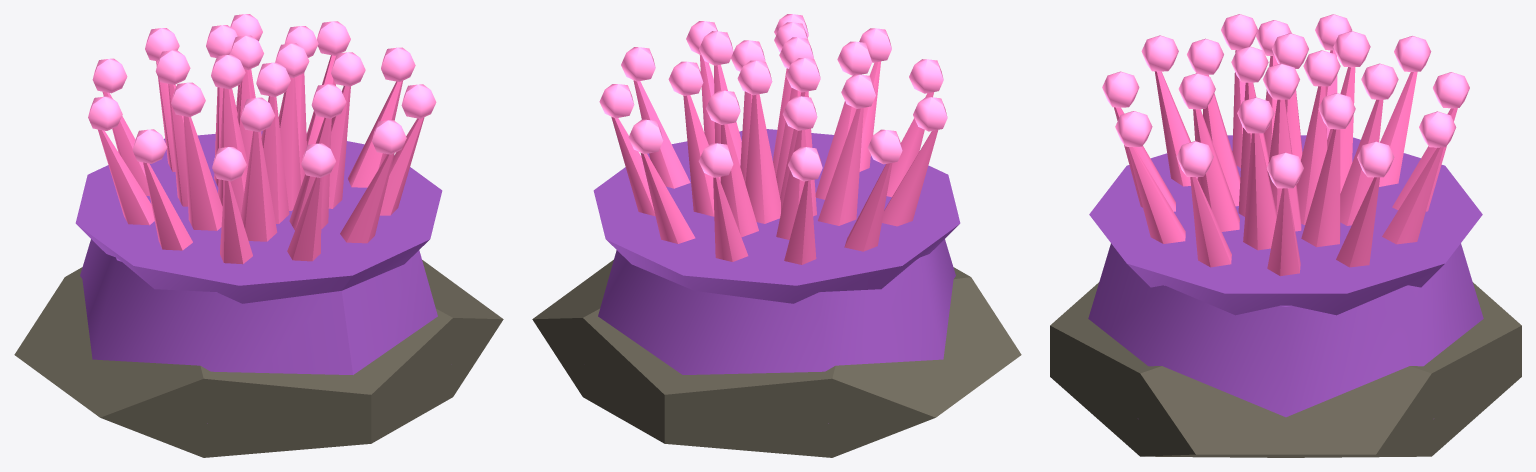
File: anemone.glb
3 views of the same model, side by side, from view 1: azimuth 30°, elevation 25°; view 2: azimuth 150°, elevation 25°; view 3: azimuth 270°, elevation 25° (orthographic). The views are drawn at different scales.
Parts seen in each view (by area): view 1: anemone; view 2: anemone; view 3: anemone.
Part boxes in pixels (box(x1,y1,x2,y2)): anemone: box(14, 14, 503, 457); anemone: box(532, 14, 1021, 457); anemone: box(1050, 14, 1521, 457).
Bounding box in the file's own units: 0.7952 × 0.6627 × 0.7668.
